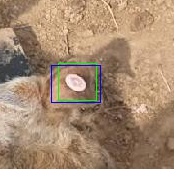text: (58, 63, 96, 100)
